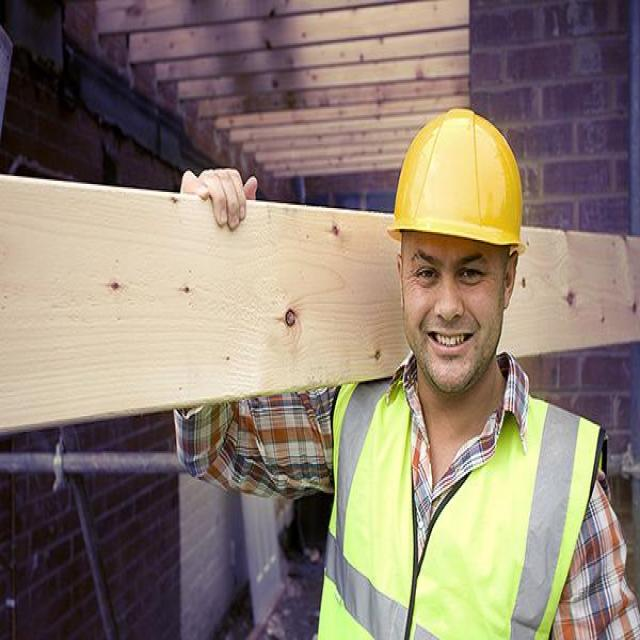Reflective-Jacket: (314, 368, 604, 638)
Safety-Helmet: (384, 104, 530, 259)
